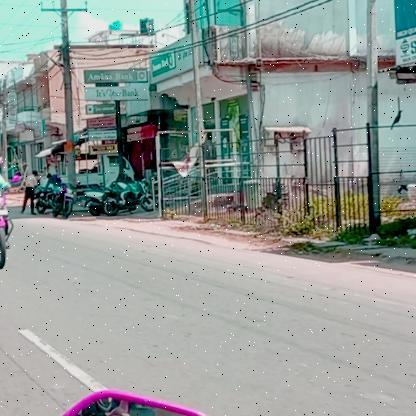motorcycle: (0, 185, 20, 272)
